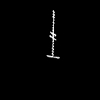treble_crochet: (48, 11, 58, 57)
